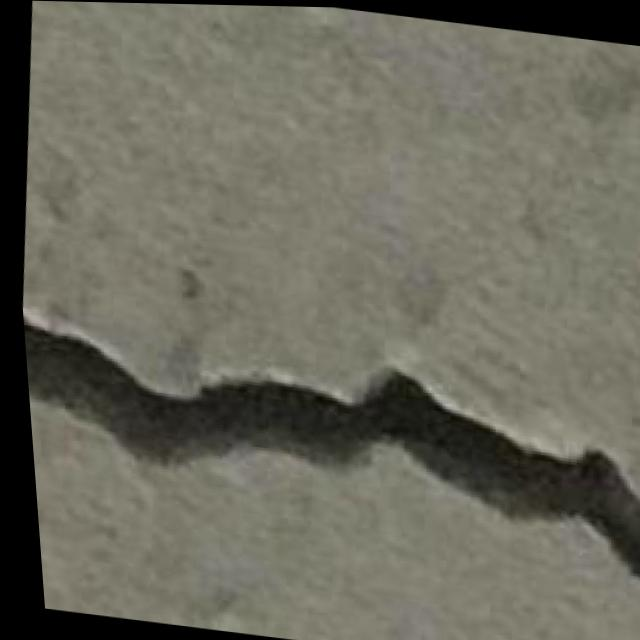Crack: (17, 287, 640, 605)
